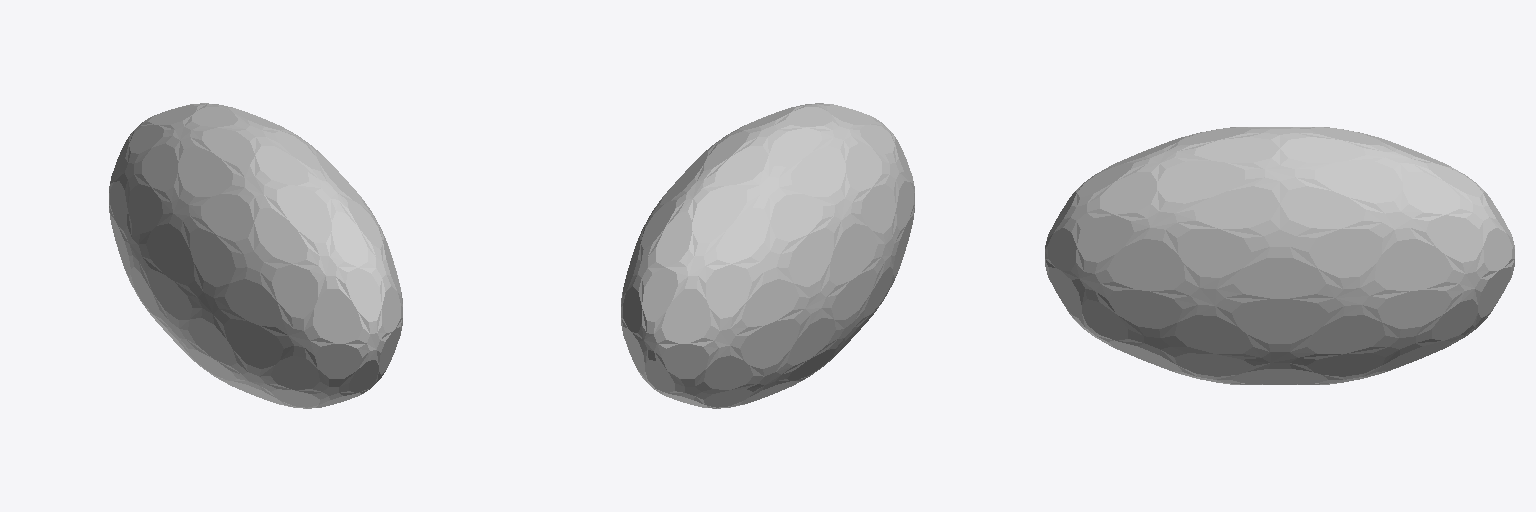
Rendered from lampshade.obj.
3 views of the same model, side by side, from view 1: azimuth 30°, elevation 25°; view 2: azimuth 150°, elevation 25°; view 3: azimuth 270°, elevation 25° (orthographic).
Visible parts, largest first — view 1: Icosphere; view 2: Icosphere; view 3: Icosphere.
Boxes of the visible parts, <box> form: Icosphere: <box>109,103,402,408</box>; Icosphere: <box>621,103,914,408</box>; Icosphere: <box>1045,127,1514,384</box>.
Bounding box in the file's own units: 0.0997 × 0.135 × 0.2318.